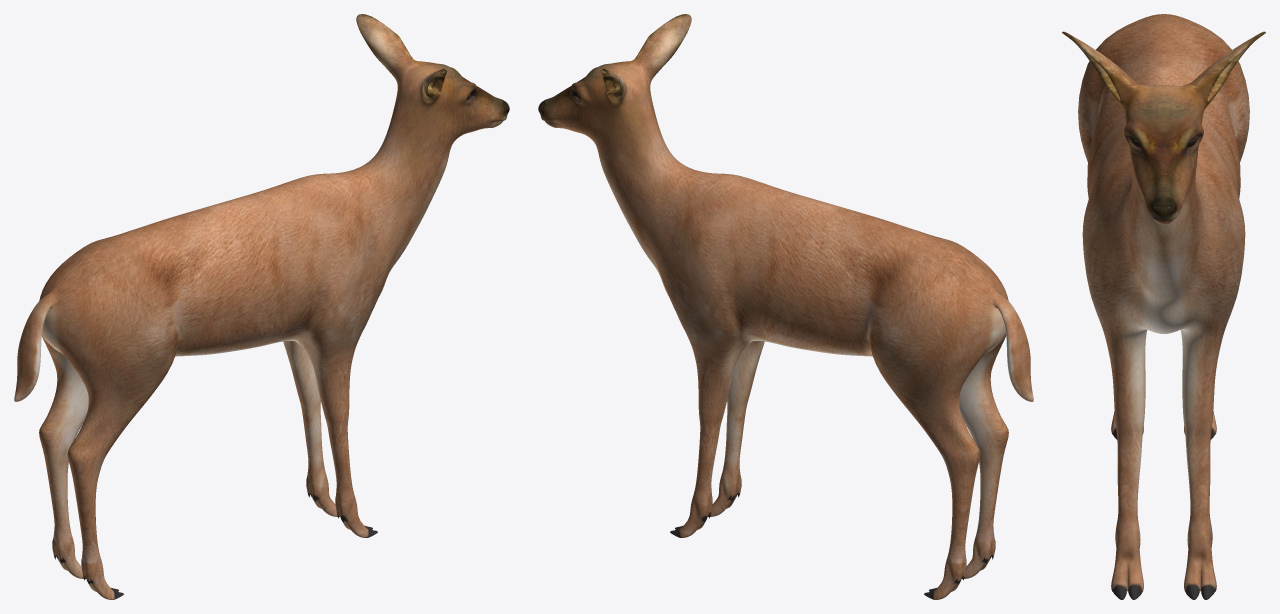
Rendered from deer.glb.
The picture shows the model from 3 angles, left to right: view 1: azimuth 30°, elevation 25°; view 2: azimuth 150°, elevation 25°; view 3: azimuth 270°, elevation 25°; orthographic projection. The views are drawn at different scales.
Parts seen in each view (by area): view 1: 12961_White-Tailed_Deer_v1_l2; view 2: 12961_White-Tailed_Deer_v1_l2; view 3: 12961_White-Tailed_Deer_v1_l2.
Part boxes in pixels (box(x1,y1,x2,y2)): 12961_White-Tailed_Deer_v1_l2: box(14, 14, 509, 599); 12961_White-Tailed_Deer_v1_l2: box(538, 14, 1033, 599); 12961_White-Tailed_Deer_v1_l2: box(1062, 14, 1265, 599).
Bounding box in the file's own units: 4.96 × 4.49 × 1.4.
Materials: 1 (1 with a texture image).
